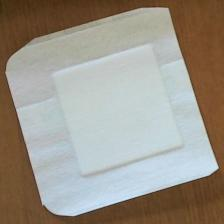Cut: (5, 6, 224, 224)
